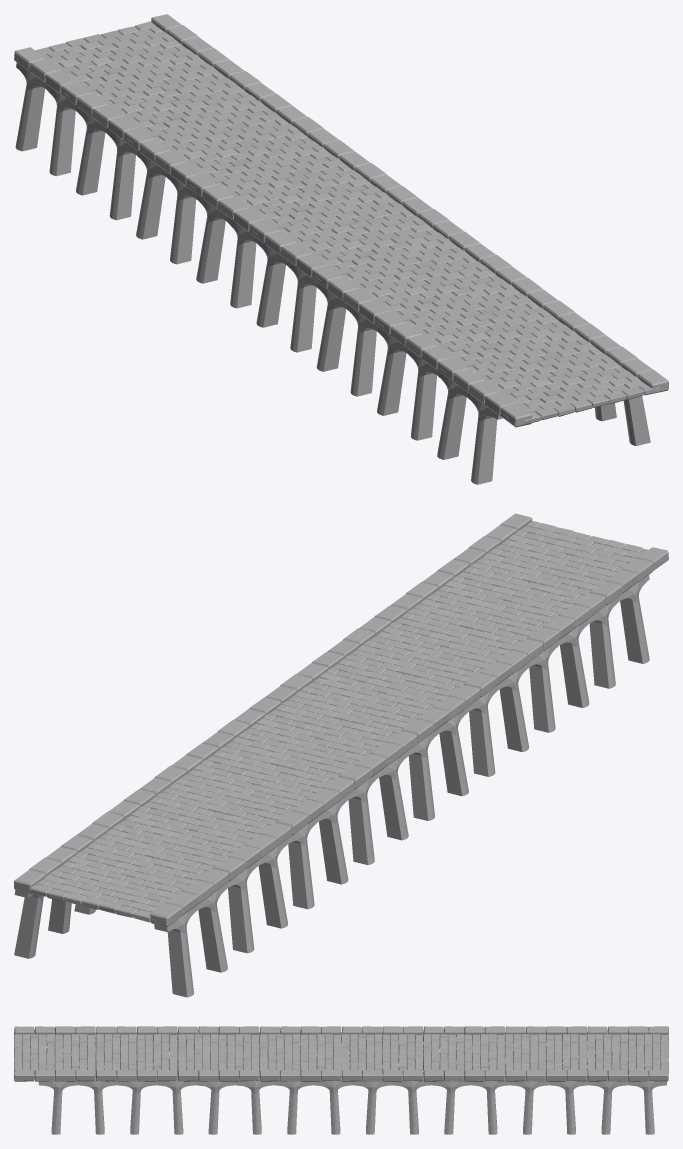
The model's file is desert_capitol_bridge.fbx.
3 renders of one model, top to bottom at view 1: azimuth 30°, elevation 25°; view 2: azimuth 150°, elevation 25°; view 3: azimuth 270°, elevation 25°, orthographic. The views are drawn at different scales.
Visible parts, largest first — view 1: bridge; view 2: bridge; view 3: bridge.
Part boxes in pixels (box(x1,y1,x2,y2)): bridge: box(14, 14, 668, 484); bridge: box(14, 513, 668, 997); bridge: box(14, 1026, 668, 1134).
Bounding box in the file's own units: 35.46 × 175 × 16.48.
